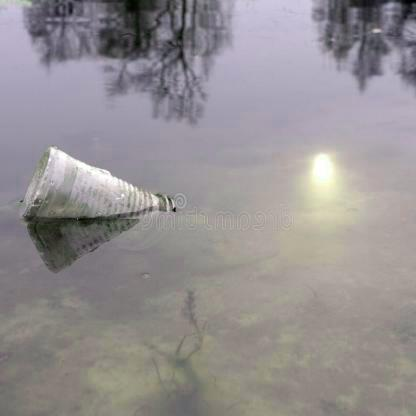Plastic: (20, 141, 183, 238)
